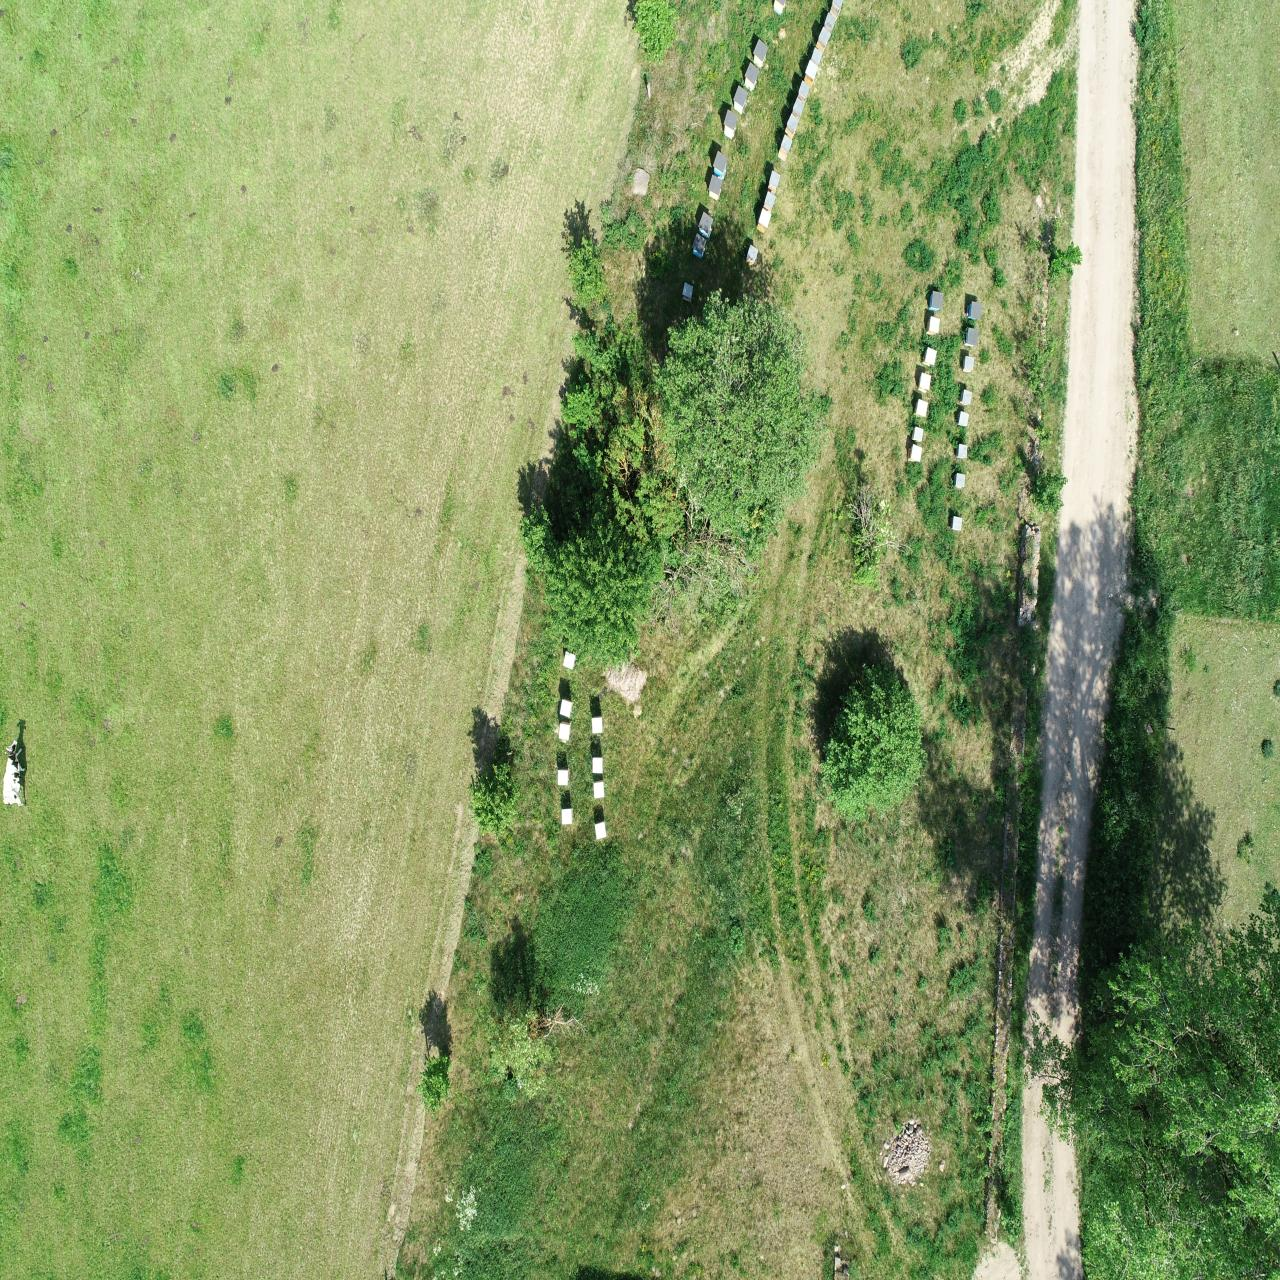cow: (1, 737, 26, 810)
